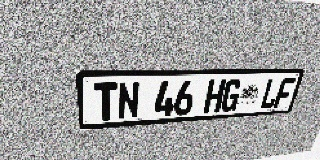4: (154, 81, 177, 117)
6: (173, 80, 196, 116)
F: (273, 78, 296, 108)
G: (220, 79, 243, 112)
H: (203, 80, 226, 113)
L: (259, 78, 282, 109)
N: (118, 82, 140, 120)
T: (94, 82, 117, 122)
